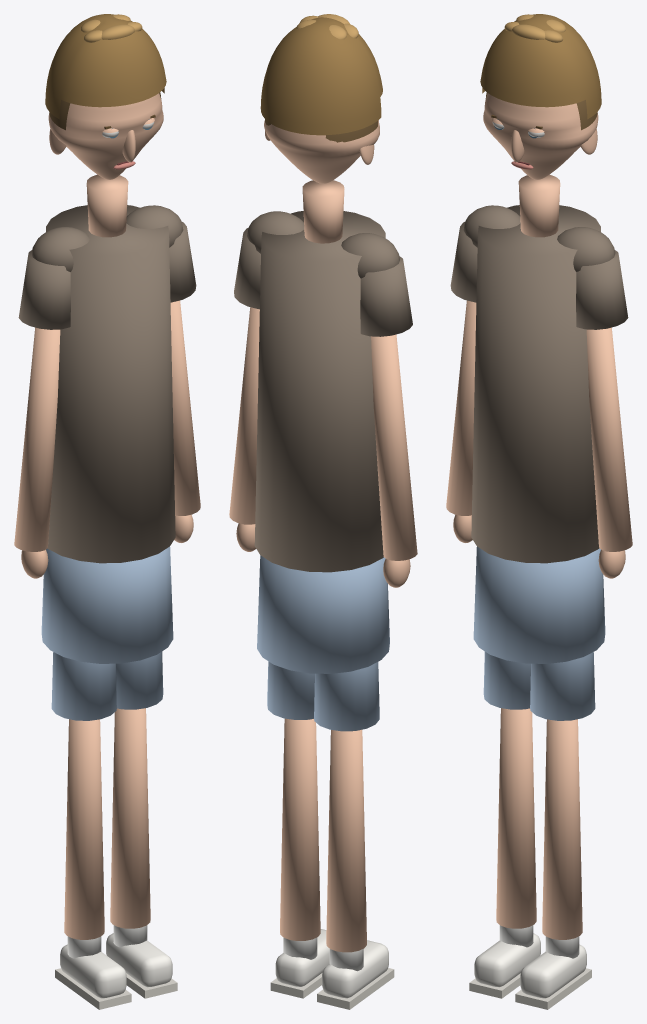
The model's file is victor.glb.
3 renders of one model, left to right at view 1: azimuth 30°, elevation 25°; view 2: azimuth 150°, elevation 25°; view 3: azimuth 330°, elevation 25°, orthographic.
Parts seen in each view (by area): view 1: victor_torso, victor_shorts, victor_hair_top, victor_shin, victor_shin.001, victor_arm, victor_head, victor_arm.001, victor_shortleg, victor_sleeve, victor_neck, victor_shortleg.001 (+11 smaller); view 2: victor_torso, victor_shorts, victor_hair_top, victor_shin, victor_shin.001, victor_arm, victor_arm.001, victor_shortleg, victor_head, victor_sleeve, victor_neck, victor_shortleg.001 (+12 smaller); view 3: victor_torso, victor_shorts, victor_hair_top, victor_shin, victor_shin.001, victor_arm.001, victor_head, victor_arm, victor_shortleg.001, victor_sleeve.001, victor_neck, victor_shortleg (+11 smaller).
Part boxes in pixels (x1,y1,x2,y2): victor_torso: (46,205,175,563); victor_shorts: (41,546,173,663); victor_hair_top: (45,14,166,119); victor_shin: (64,719,104,939); victor_shin.001: (110,708,150,928); victor_arm: (14,327,60,551); victor_head: (48,93,163,179); victor_arm.001: (170,300,200,515); victor_shortleg: (51,652,116,720); victor_sleeve: (18,250,70,329); victor_neck: (86,174,128,237); victor_shortleg.001: (116,651,163,709); victor_torso: (254,211,385,572); victor_shorts: (257,555,389,673); victor_hair_top: (260,17,382,135); victor_shin: (326,729,366,952); victor_shin.001: (280,718,320,940); victor_arm: (371,334,417,560); victor_arm.001: (229,307,259,524); victor_shortleg: (314,662,379,731); victor_head: (264,120,379,183); victor_sleeve: (360,256,412,336); victor_neck: (302,180,344,243); victor_shortleg.001: (267,661,314,719); victor_torso: (471,205,600,563); victor_shorts: (473,546,605,663); victor_hair_top: (480,14,601,119); victor_shin: (496,708,536,928); victor_shin.001: (542,719,582,939); victor_arm.001: (586,327,632,551); victor_head: (483,93,598,179); victor_arm: (446,300,476,515); victor_shortleg.001: (530,652,595,720); victor_sleeve.001: (576,250,628,329); victor_neck: (518,174,560,237); victor_shortleg: (483,651,530,709).
Size of the model in its own units: 0.2927 by 1.47 by 0.1906.
